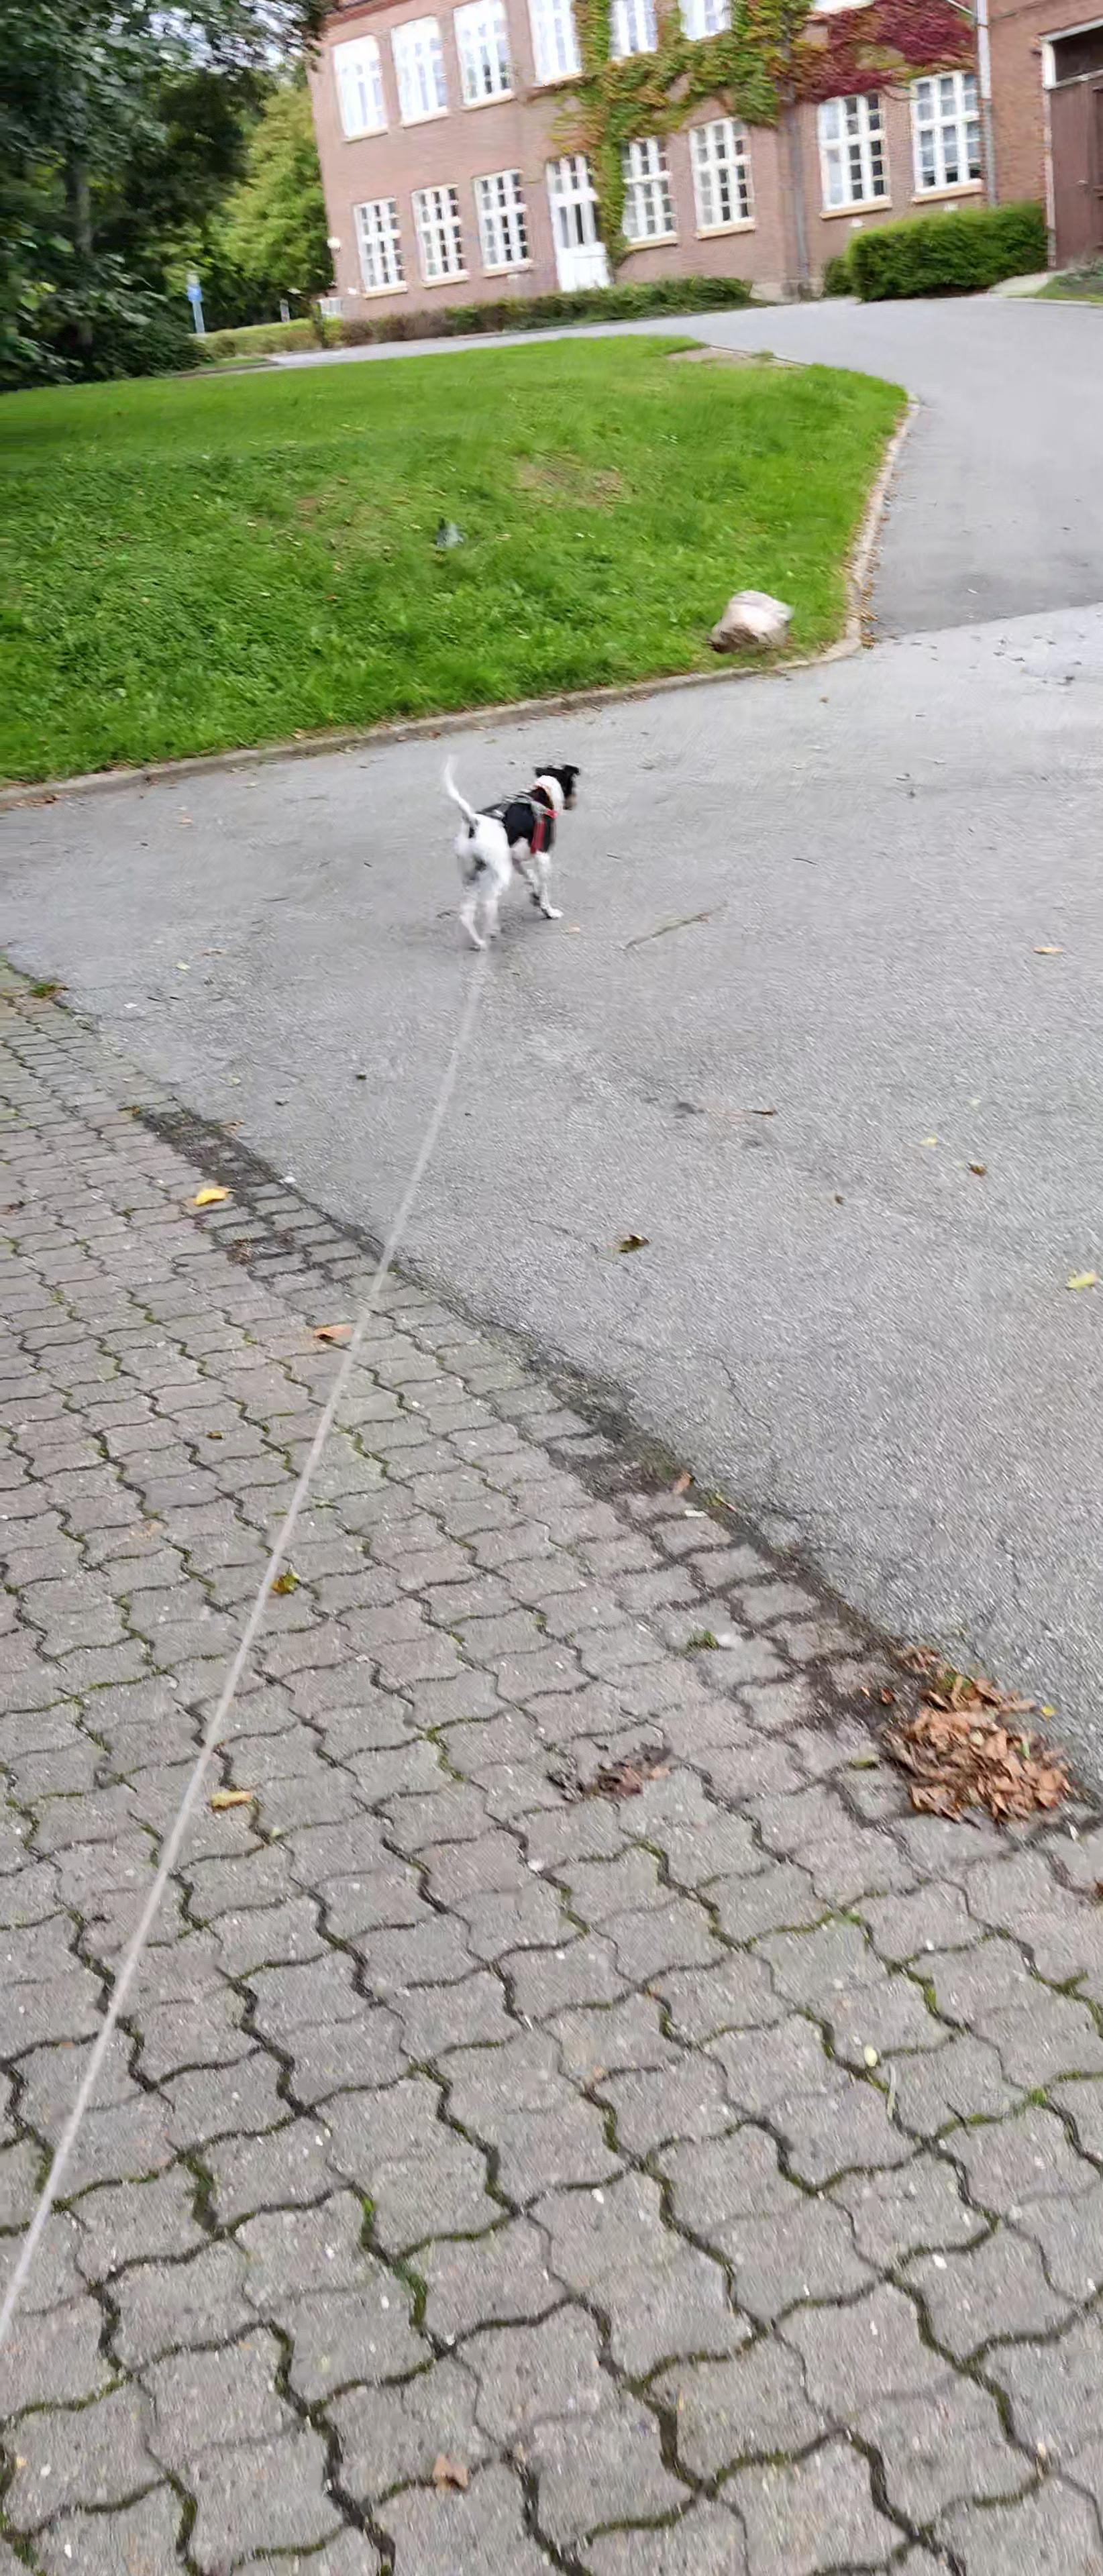Dog: (436, 751, 587, 953)
